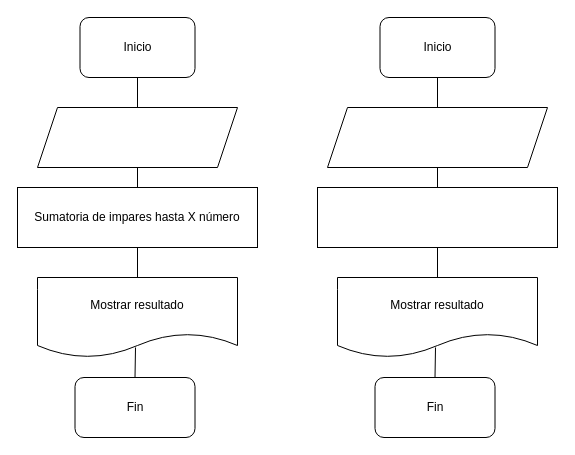
Image size: 575x455. Some labels were removed from this diagram. The shapes that lost their labels are listed below. From the top down, each one's box as (x1, y1, x2, y2) in pixels, then its label:
(36, 106, 238, 168): Leer número de entrada "X"
(326, 106, 548, 168): Leer numeros de entrada "X" e "Y"
(316, 186, 558, 248): Sumatoria de impares desde X hasta Y
